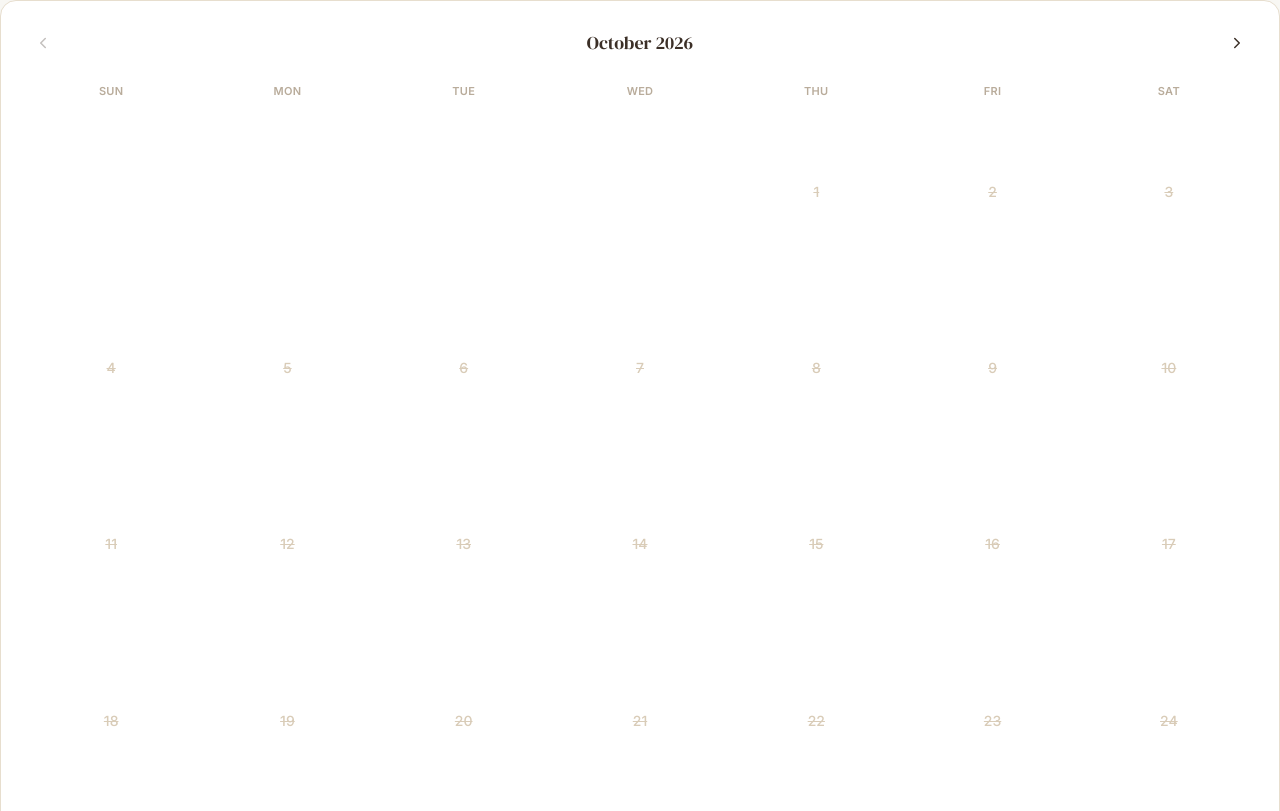
Test case: Calendar opening month › does not jump ahead when every date in the opening months is unavailable
# The customer can still page forward to later months themselves.
Click the button named "Next month": [1237, 43] box [1219,25,1255,61]
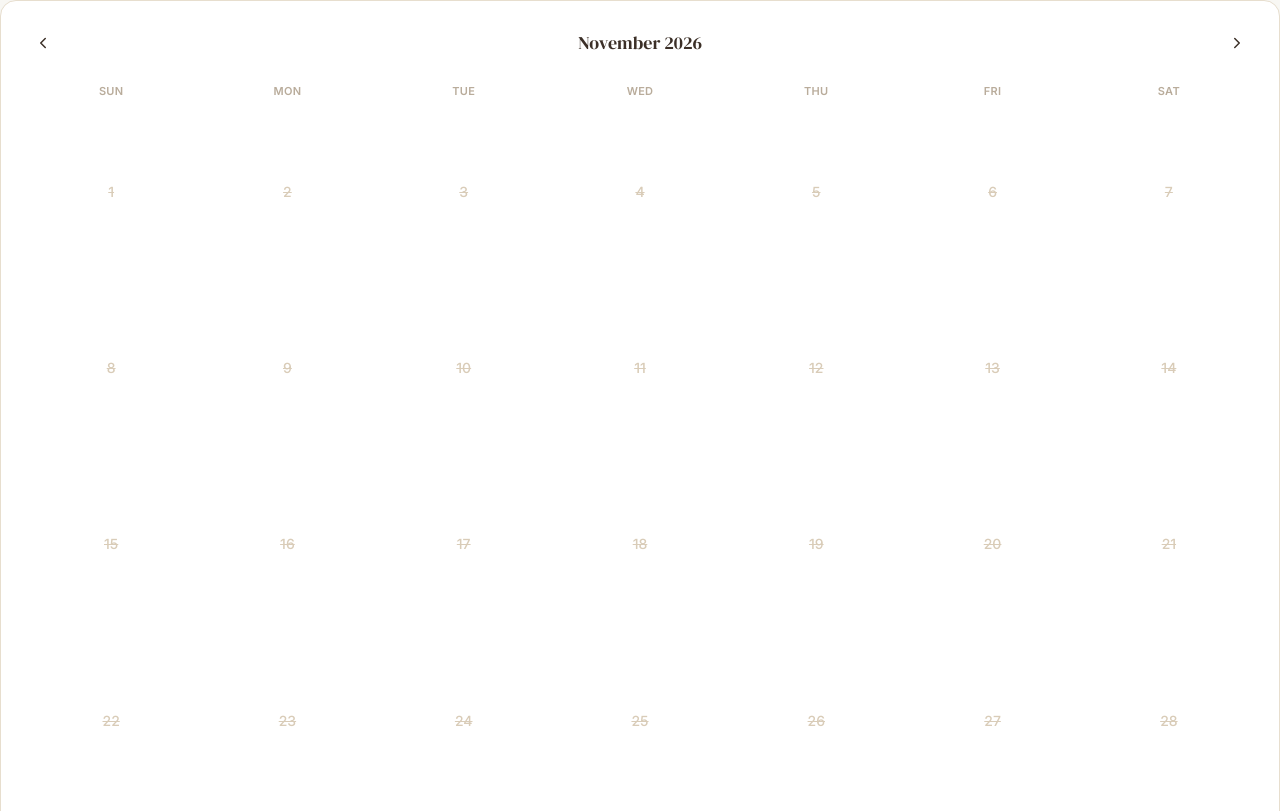
Click the button named "Next month": [1237, 43] box [1219,25,1255,61]
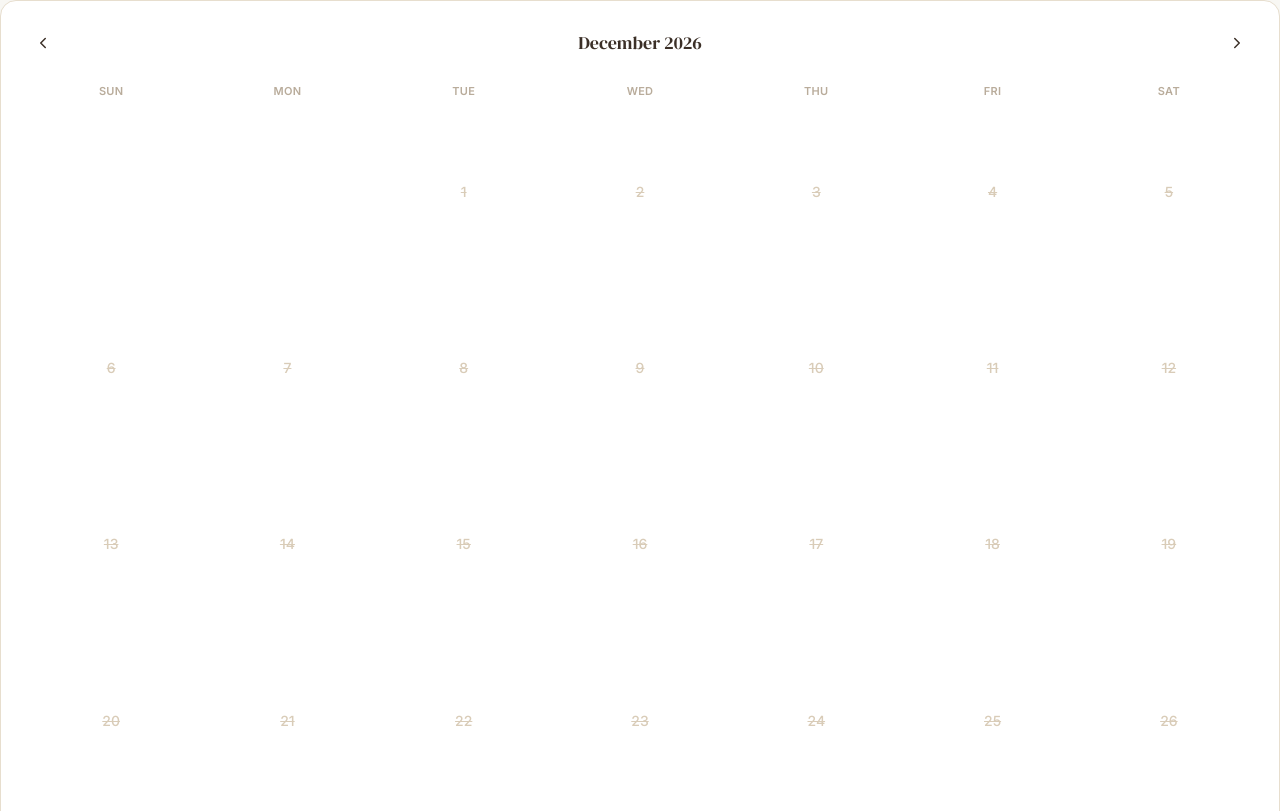
Click the button named "Next month": [1237, 43] box [1219,25,1255,61]
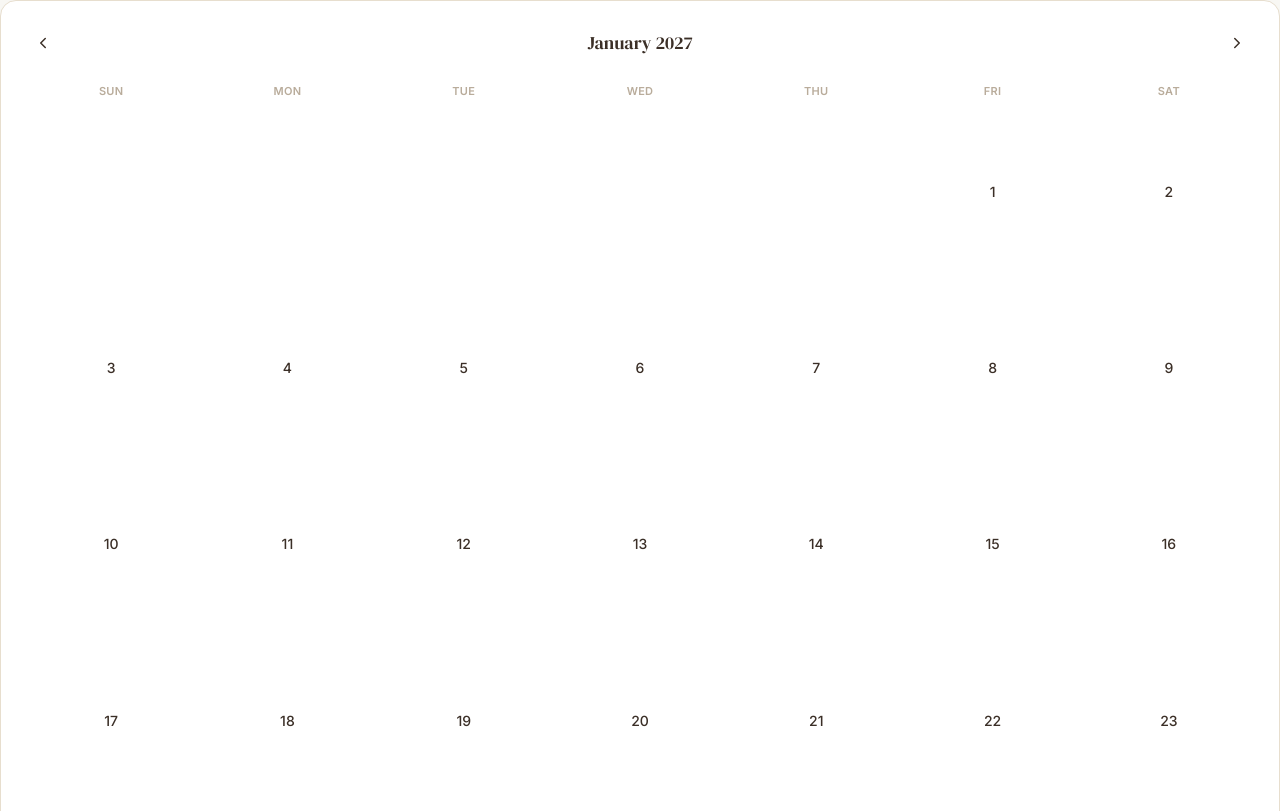
Result: the text "January 2027" is shown at [588,29,692,57]
